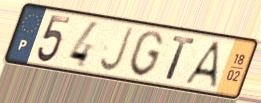4: (64, 19, 101, 70)
5: (36, 13, 74, 63)
A: (181, 39, 221, 91)
G: (127, 29, 166, 79)
J: (98, 25, 136, 73)
T: (164, 34, 197, 83)
